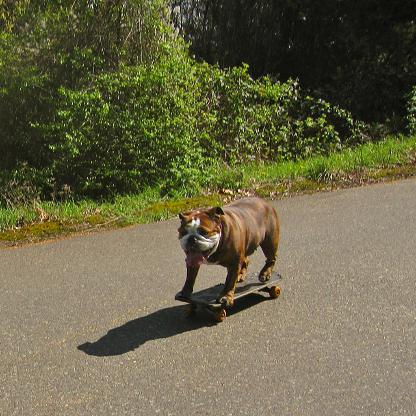Dog: (178, 196, 281, 308)
